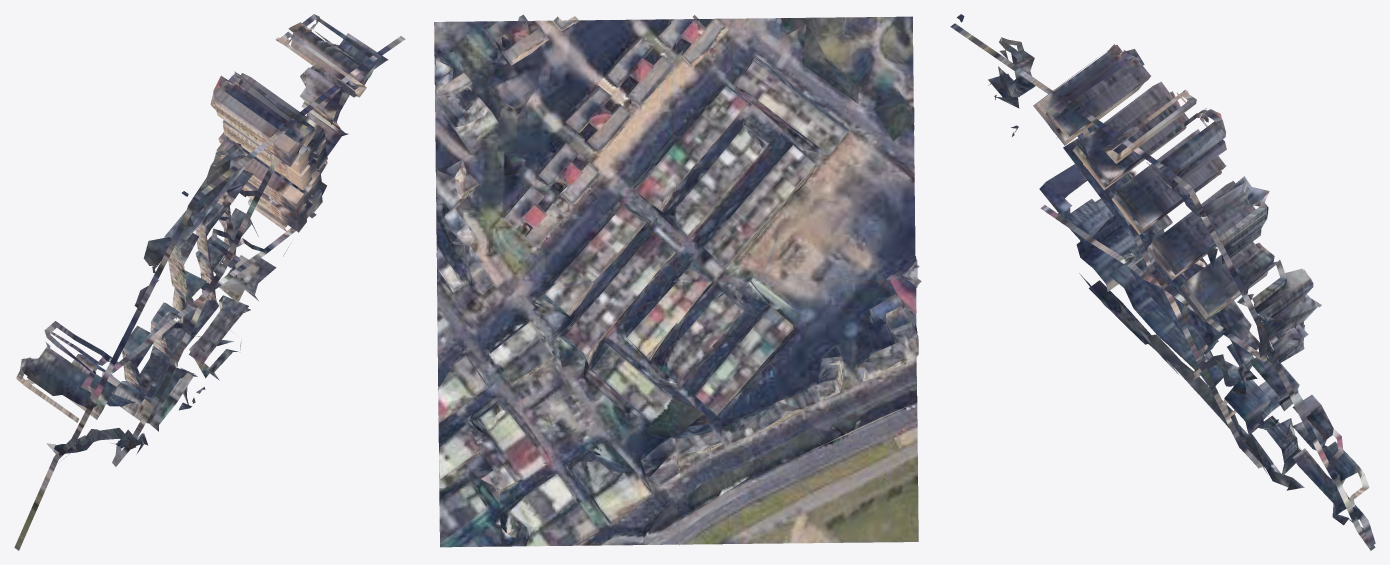
3 views of the same model, side by side, from view 1: azimuth 30°, elevation 25°; view 2: azimuth 150°, elevation 25°; view 3: azimuth 270°, elevation 25° (orthographic). The views are drawn at different scales.
Bounding box in the file's own units: 306 × 300 × 260.
1 material, 1 textured.
